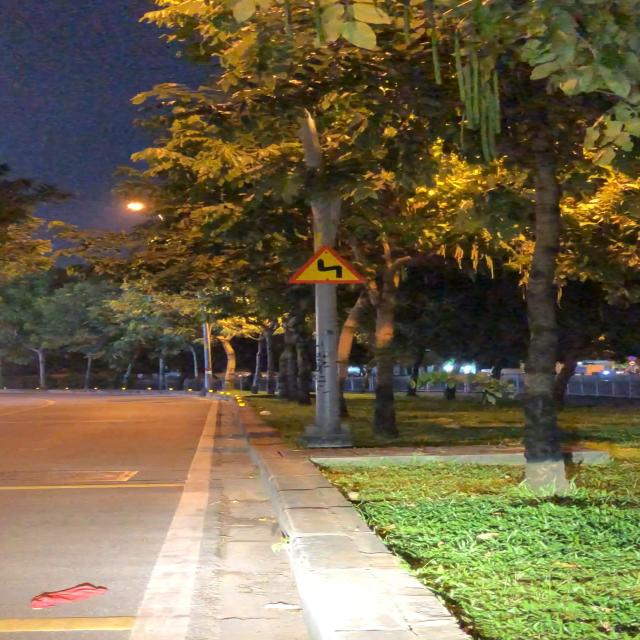Bien bao nhieu cho ngoat nguy hiem lien tiep: (284, 245, 370, 286)
